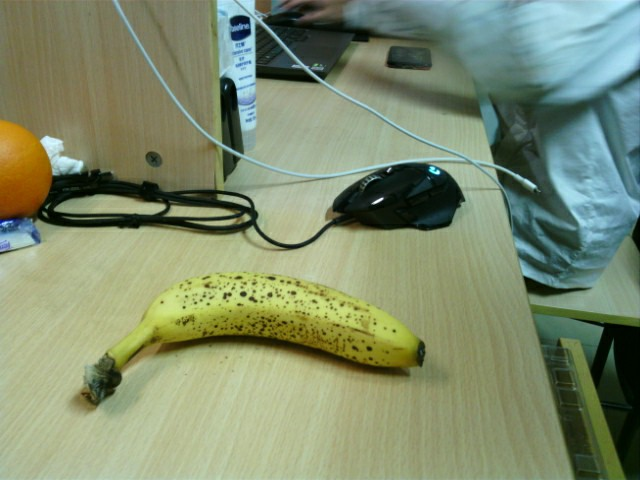normal_banana: (83, 271, 425, 407)
normal_orange: (1, 120, 53, 217)
